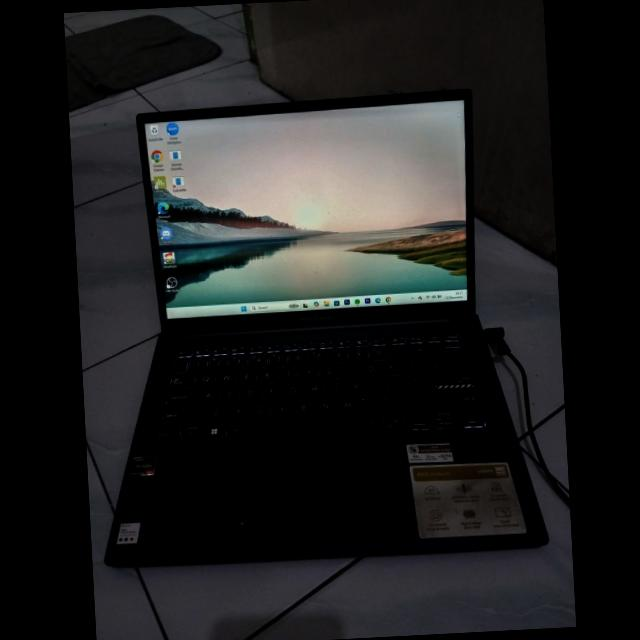laptop: (106, 89, 546, 565)
